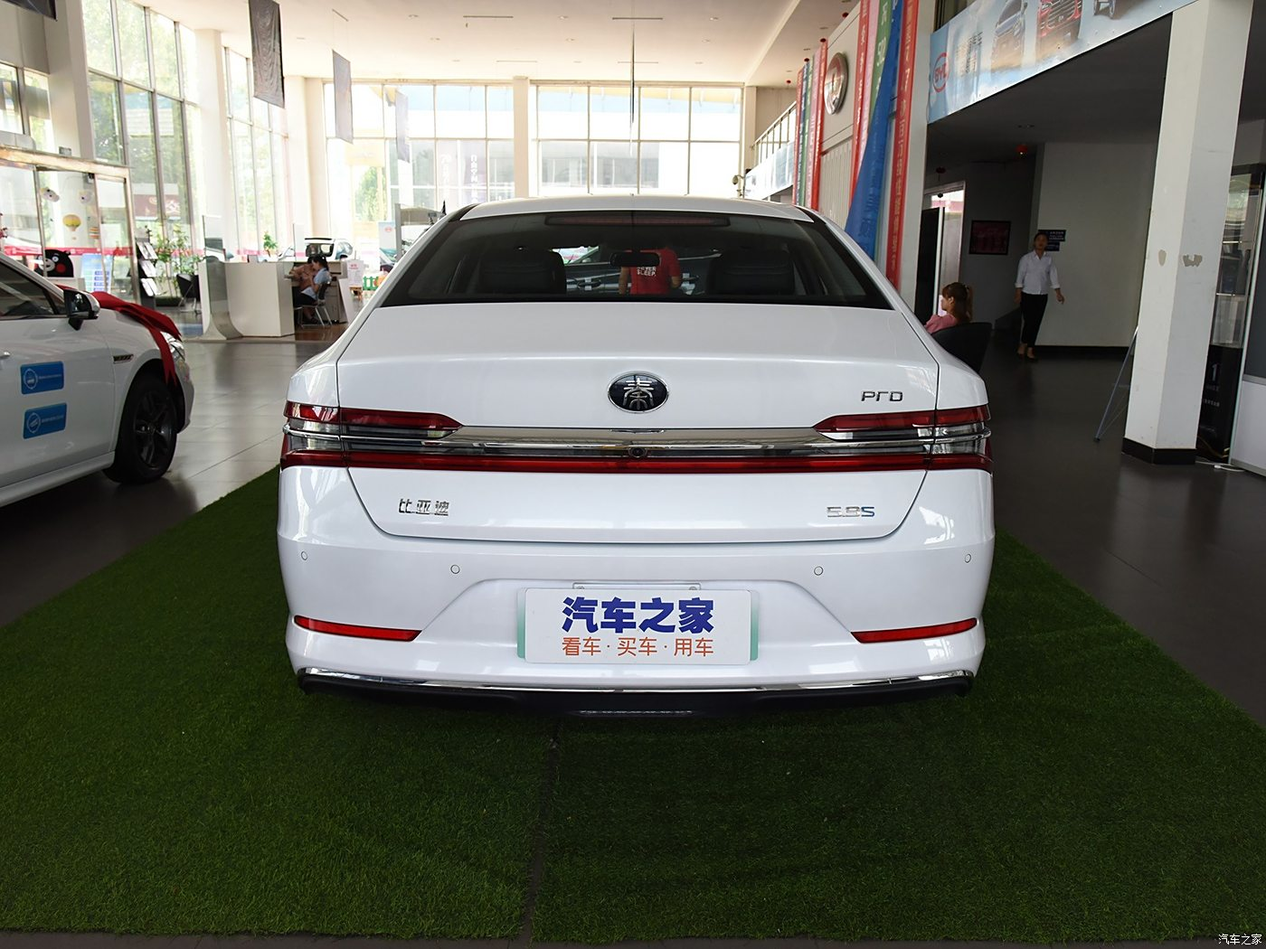BYD Qin: (608, 371, 668, 412)
